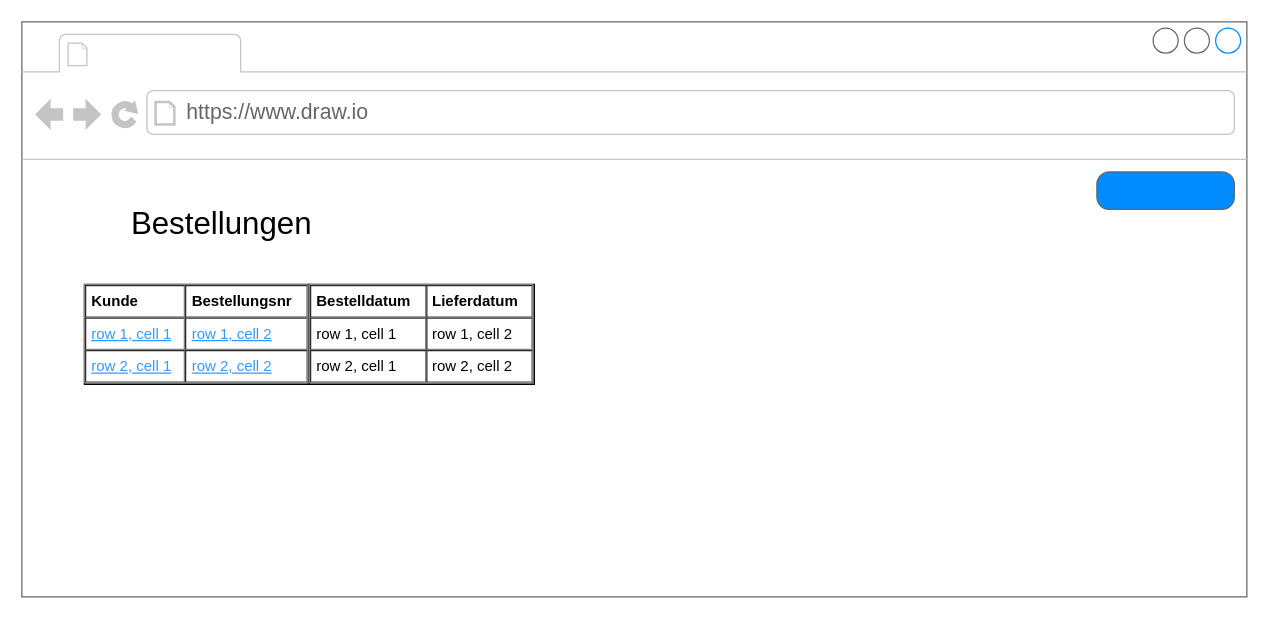
Some shapes in this 1269 by 619 pixel diagram are drawn without their labels. The centre of each missing label's shape, as x and y in pixels:
"Logout" goes at pixel 1165 190.
"Page 1" goes at pixel 165 52.
